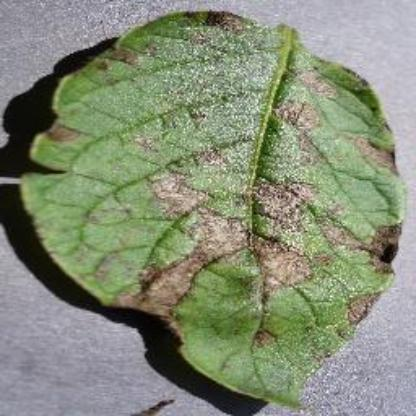Early-Blight: (15, 1, 416, 413)
